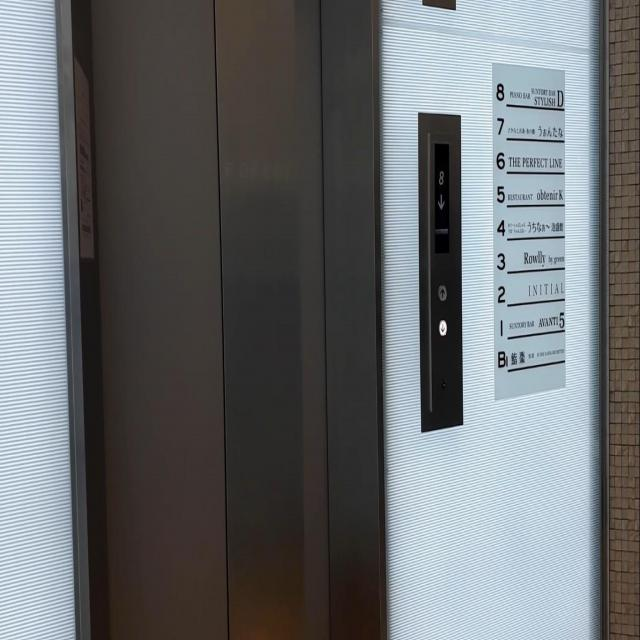down: (437, 316, 447, 337)
led: (432, 139, 450, 254)
up: (437, 281, 448, 303)
